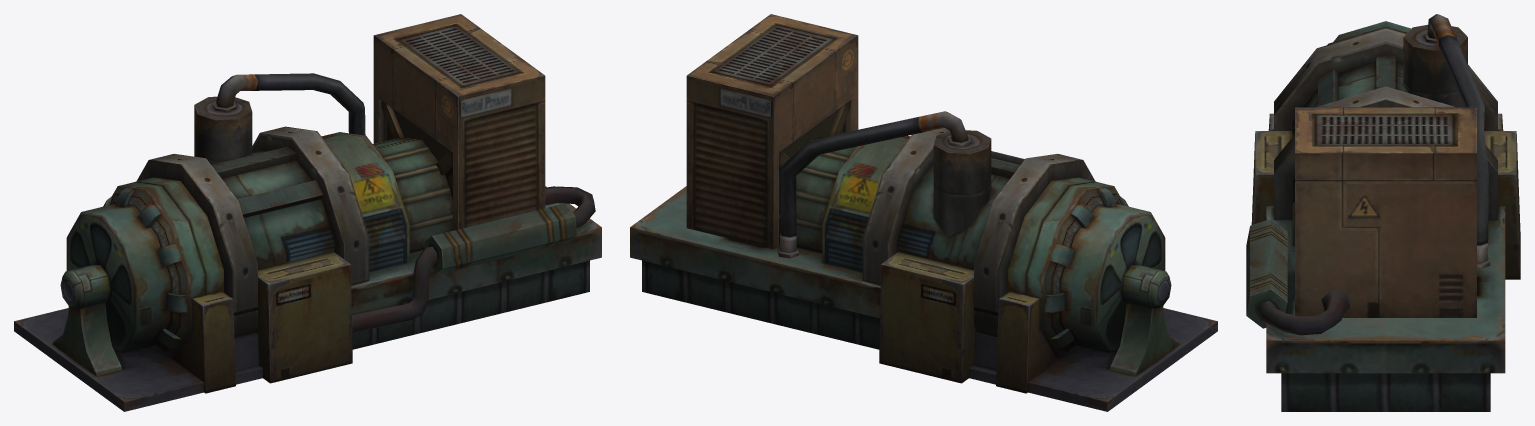
Rendered from mf_elctricgenerator002.FBX.
3 renders of one model, left to right at view 1: azimuth 30°, elevation 25°; view 2: azimuth 150°, elevation 25°; view 3: azimuth 270°, elevation 25°, orthographic. The views are drawn at different scales.
Visible parts, largest first — view 1: mf_elctricgenerator002; view 2: mf_elctricgenerator002; view 3: mf_elctricgenerator002.
Boxes of the visible parts, box(x1,y1,x2,y2) form: mf_elctricgenerator002: box(14, 14, 601, 411); mf_elctricgenerator002: box(630, 14, 1217, 411); mf_elctricgenerator002: box(1246, 14, 1520, 411).
Size of the model in its own units: 4.34 by 1.98 by 1.97.
Materials: 1 (1 with a texture image).
